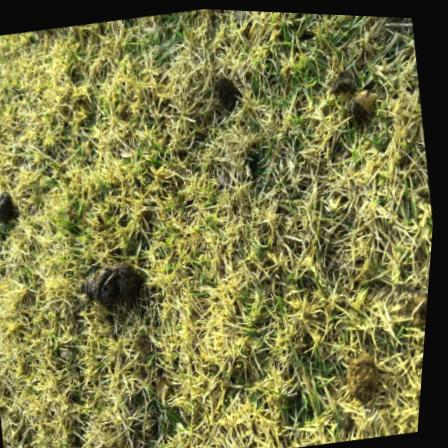dog-poop: (66, 247, 150, 326), (0, 186, 29, 231)
